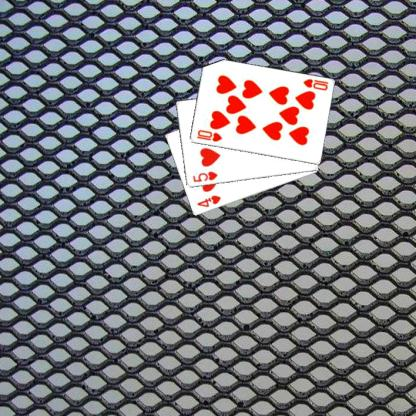10H: (194, 128, 223, 144), (300, 76, 329, 92)
4H: (195, 192, 222, 209)
5H: (190, 170, 218, 184)
